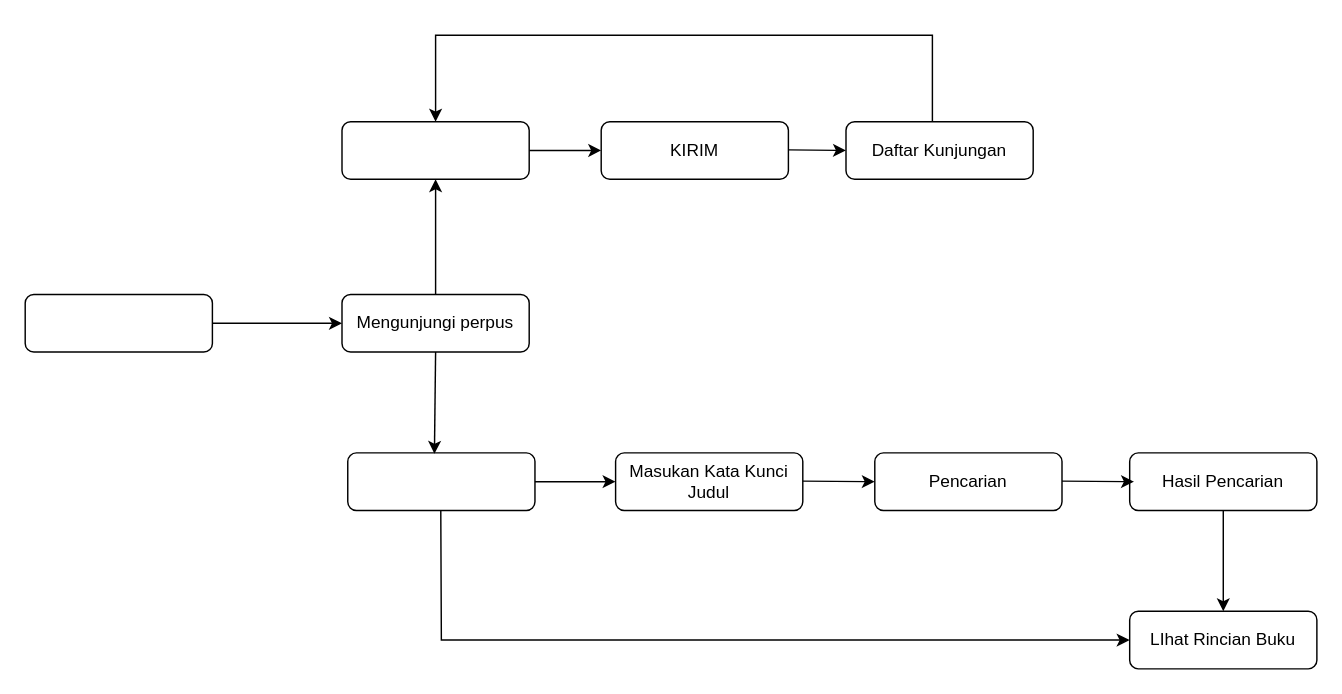
The diagram is 1342 pixels wide and 694 high, and some of its shapes have lost their labels. The centre of each missing label's shape, as x and y in pixels:
"Isi Form Pengunjung" belongs at [435,149].
"Pencarian Buku" belongs at [440,480].
"USER" belongs at [118,322].
